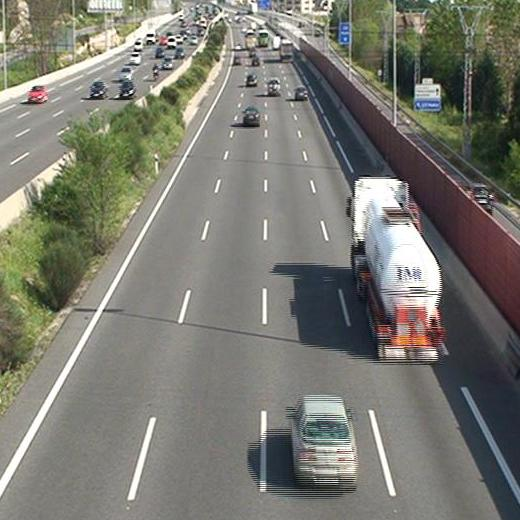car: (291, 398, 358, 487), (242, 107, 258, 126), (267, 78, 281, 96), (295, 86, 309, 100), (246, 74, 258, 87), (250, 56, 260, 66), (233, 55, 241, 66)
tank-truck: (353, 177, 443, 363)
truck: (280, 40, 295, 62)
